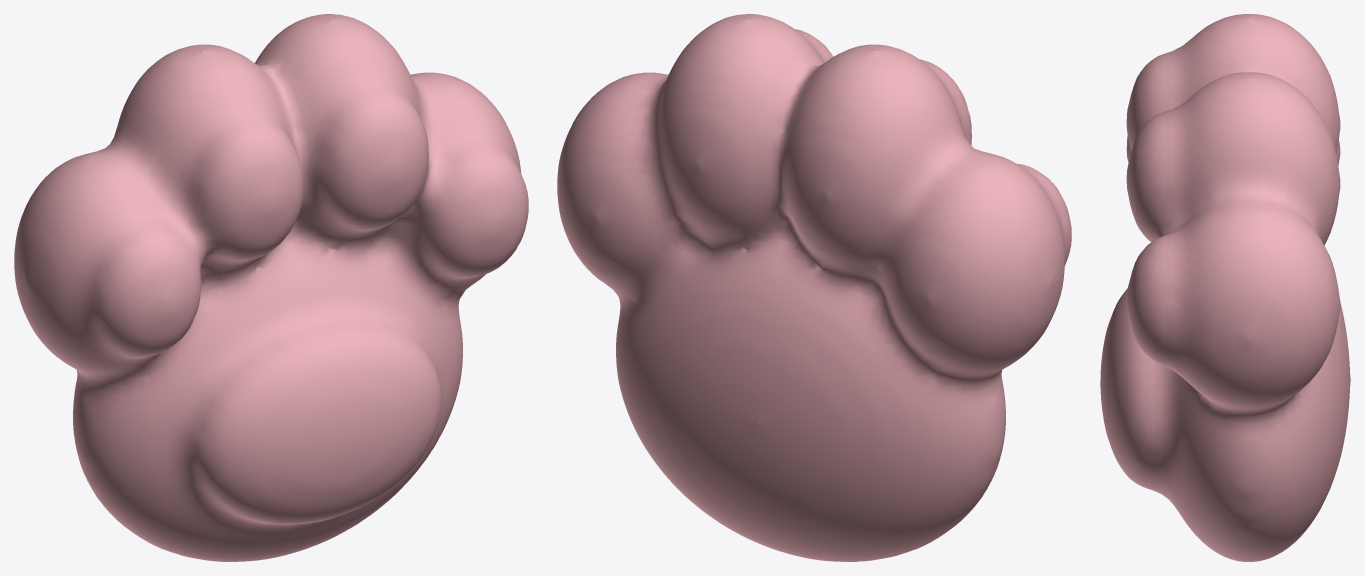
The model's file is squishy-paw.glb.
3 views of the same model, side by side, from view 1: azimuth 30°, elevation 25°; view 2: azimuth 150°, elevation 25°; view 3: azimuth 270°, elevation 25° (orthographic). The views are drawn at different scales.
Parts seen in each view (by area): view 1: Squishy_Surface; view 2: Squishy_Surface; view 3: Squishy_Surface.
Boxes of the visible parts, x1,y1,x2,y2 form: Squishy_Surface: [14, 14, 528, 561]; Squishy_Surface: [557, 14, 1071, 561]; Squishy_Surface: [1100, 14, 1350, 561].
Bounding box in the file's own units: 2.23 × 2.29 × 1.06.
